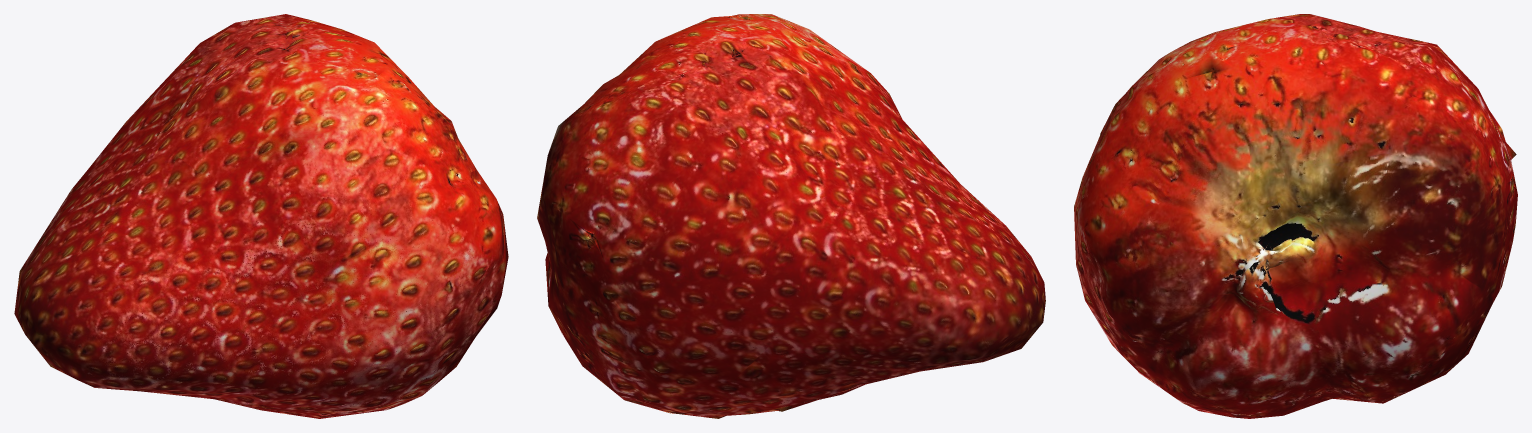
Rendered from 73_strawberry.glb.
3 renders of one model, left to right at view 1: azimuth 30°, elevation 25°; view 2: azimuth 150°, elevation 25°; view 3: azimuth 270°, elevation 25°, orthographic. The views are drawn at different scales.
Visible parts, largest first — view 1: 73_strawberry; view 2: 73_strawberry; view 3: 73_strawberry.
Part boxes in pixels (x1,y1,x2,y2): 73_strawberry: (14, 14, 508, 418); 73_strawberry: (537, 14, 1045, 418); 73_strawberry: (1074, 14, 1517, 418).
Size of the model in its own units: 0.8354 by 0.6611 by 0.7122.
Materials: 1 (1 with a texture image).
